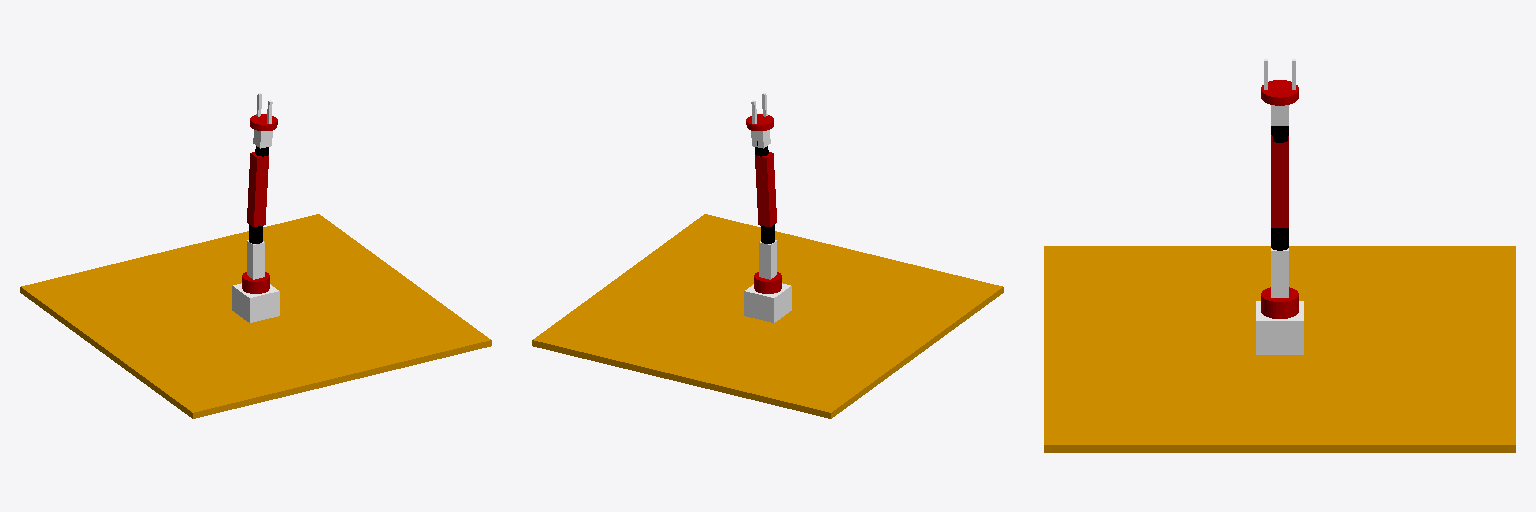
robot.urdf — seven_dof_arm:
<?xml version="1.0" ?>
<!-- =================================================================================== -->
<!-- |    This document was autogenerated by xacro from seven_dof_arm.xacro            | -->
<!-- |    EDITING THIS FILE BY HAND IS NOT RECOMMENDED                                 | -->
<!-- =================================================================================== -->
<robot name="seven_dof_arm" xmlns:xacro="http://ros.org/wiki/xacro">
  <!-- Include materials -->
  <material name="Black">
    <color rgba="0.0 0.0 0.0 1.0"/>
  </material>
  <material name="Red">
    <color rgba="0.8 0.0 0.0 1.0"/>
  </material>
  <material name="White">
    <color rgba="1.0 1.0 1.0 1.0"/>
  </material>
  <!-- BOTTOM FIXED LINK 
This link is the base of the arm in which arm is placed 

-->
  <!-- ///////////////////////////////////////////////////////////////////////////////////////////////////////////////////// -->
  <joint name="bottom_joint" type="fixed">
    <origin rpy="0 0 0" xyz="0 0 0"/>
    <parent link="base_link"/>
    <child link="bottom_link"/>
  </joint>
  <link name="bottom_link">
    <visual>
      <origin rpy="0 0 0" xyz=" 0 0 -0.04"/>
      <geometry>
        <box size="1 1 0.02"/>
      </geometry>
      <material name="Brown"/>
    </visual>
    <collision>
      <origin rpy="0 0 0" xyz=" 0 0 -0.04"/>
      <geometry>
        <box size="1 1 0.02"/>
      </geometry>
    </collision>
    &gt;

  
  </link>
  <gazebo reference="bottom_link">
    <material>Gazebo/White</material>
  </gazebo>
  <!-- ///////////////////////////////////////////////////////////////////////////////////////////////////////////////////// -->
  <!-- BASE LINK -->
  <link name="base_link">
    <visual>
      <origin rpy="1.570795 0 0" xyz="0 0 0"/>
      <!-- rotate PI/2 -->
      <geometry>
        <box size="0.1 0.1 0.1"/>
      </geometry>
      <material name="White"/>
    </visual>
    <collision>
      <origin rpy="1.570795 0 0" xyz="0 0 0"/>
      <!-- rotate PI/2 -->
      <geometry>
        <box size="0.1 0.1 0.1"/>
      </geometry>
    </collision>
    &gt;
	
    <inertial>
      <mass value="1"/>
      <inertia ixx="1.0" ixy="0.0" ixz="0.0" iyy="0.5" iyz="0.0" izz="1.0"/>
    </inertial>
  </link>
  <gazebo reference="base_link">
    <material>Gazebo/White</material>
  </gazebo>
  <joint name="shoulder_pan_joint" type="revolute">
    <parent link="base_link"/>
    <child link="shoulder_pan_link"/>
    <origin rpy="0 1.570795 0.0" xyz="0 0 0.05"/>
    <axis xyz="-1 0 0"/>
    <limit effort="300" lower="-2.61799387799" upper="1.98394848567" velocity="1"/>
    <dynamics damping="50" friction="1"/>
  </joint>
  <!-- ///////////////////////////////////////////////////////////////////////////////////////////////////////////////////// -->
  <!-- SHOULDER PAN LINK -->
  <link name="shoulder_pan_link">
    <visual>
      <origin rpy="0 1.570795 0" xyz="0 0 0"/>
      <geometry>
        <cylinder length="0.08" radius="0.04"/>
      </geometry>
      <material name="Red"/>
    </visual>
    <collision>
      <origin rpy="0 1.570795 0" xyz="0 0 0"/>
      <geometry>
        <cylinder length="0.08" radius="0.04"/>
      </geometry>
    </collision>
    <inertial>
      <mass value="1"/>
      <inertia ixx="1.0" ixy="0.0" ixz="0.0" iyy="0.5" iyz="0.0" izz="1.0"/>
    </inertial>
  </link>
  <gazebo reference="shoulder_pan_link">
    <material>Gazebo/Red</material>
  </gazebo>
  <joint name="shoulder_pitch_joint" type="revolute">
    <parent link="shoulder_pan_link"/>
    <child link="shoulder_pitch_link"/>
    <origin rpy="-1.570795 0 1.570795" xyz="-0.041 0.0021 0.0"/>
    <axis xyz="1 0 0"/>
    <limit effort="300" lower="-1.19962513147" upper="1.89994105047" velocity="1"/>
    <dynamics damping="50" friction="1"/>
  </joint>
  <!-- ///////////////////////////////////////////////////////////////////////////////////////////////////////////////////// -->
  <!-- SHOULDER PITCH LINK -->
  <link name="shoulder_pitch_link">
    <visual>
      <origin rpy="0 1.570795 0" xyz="-0.002 0 0.04"/>
      <geometry>
        <box size="0.14 0.04 0.04"/>
      </geometry>
      <material name="White"/>
    </visual>
    <collision>
      <origin rpy="0 1.570795 0" xyz="-0.002 0 0.04"/>
      <geometry>
        <box size="0.14 0.04 0.04"/>
      </geometry>
    </collision>
    <inertial>
      <mass value="1"/>
      <inertia ixx="1.0" ixy="0.0" ixz="0.0" iyy="0.5" iyz="0.0" izz="1.0"/>
    </inertial>
  </link>
  <gazebo reference="shoulder_pitch_link">
    <material>Gazebo/White</material>
  </gazebo>
  <joint name="elbow_roll_joint" type="revolute">
    <parent link="shoulder_pitch_link"/>
    <child link="elbow_roll_link"/>
    <origin rpy="3.14159 1.570795 0" xyz="-0.002 0 0.1206"/>
    <axis xyz="-1 0 0"/>
    <limit effort="300" lower="-2.61799387799" upper="0.705631162427" velocity="1"/>
    <dynamics damping="50" friction="1"/>
  </joint>
  <!-- ///////////////////////////////////////////////////////////////////////////////////////////////////////////////////// -->
  <!-- ELBOW ROLL LINK -->
  <link name="elbow_roll_link">
    <visual>
      <origin rpy="0 1.570795 0" xyz="-0.015 0.0 -0.0"/>
      <geometry>
        <cylinder length="0.06" radius="0.02"/>
      </geometry>
      <material name="Black"/>
    </visual>
    <collision>
      <origin rpy="0 1.570795 0" xyz="-0.015 0.0 -0.0"/>
      <geometry>
        <cylinder length="0.06" radius="0.02"/>
      </geometry>
    </collision>
    <inertial>
      <mass value="1"/>
      <inertia ixx="1.0" ixy="0.0" ixz="0.0" iyy="0.5" iyz="0.0" izz="1.0"/>
    </inertial>
  </link>
  <gazebo reference="elbow_roll_link">
    <material>Gazebo/Black</material>
  </gazebo>
  <joint name="elbow_pitch_joint" type="revolute">
    <parent link="elbow_roll_link"/>
    <child link="elbow_pitch_link"/>
    <origin rpy="0.055 1.570795 0" xyz="-0.035 0 0.0"/>
    <axis xyz="1 0 0"/>
    <limit effort="300" lower="-1.5953400194" upper="1.93281579274" velocity="1"/>
    <dynamics damping="50" friction="1"/>
  </joint>
  <!-- ///////////////////////////////////////////////////////////////////////////////////////////////////////////////////// -->
  <!-- ELBOW PITCH LINK -->
  <link name="elbow_pitch_link">
    <visual>
      <origin rpy="0 1.570795 0" xyz="0 0 -0.12"/>
      <geometry>
        <box size="0.22 0.04 0.04"/>
      </geometry>
      <material name="Red"/>
    </visual>
    <collision>
      <origin rpy="0 1.570795 0" xyz="0 0 -0.12"/>
      <geometry>
        <box size="0.22 0.04 0.04"/>
      </geometry>
    </collision>
    <inertial>
      <mass value="1"/>
      <inertia ixx="1.0" ixy="0.0" ixz="0.0" iyy="0.5" iyz="0.0" izz="1.0"/>
    </inertial>
  </link>
  <gazebo reference="elbow_pitch_link">
    <material>Gazebo/Red</material>
  </gazebo>
  <joint name="wrist_roll_joint" type="revolute">
    <parent link="elbow_pitch_link"/>
    <child link="wrist_roll_link"/>
    <origin rpy="0 1.570795 3.14159" xyz="0.0 0.0081 -.248"/>
    <axis xyz="1 0 0"/>
    <limit effort="300" lower="-2.61799387799" upper="2.6128806087" velocity="1"/>
    <dynamics damping="50" friction="1"/>
  </joint>
  <!-- WRIST ROLL LINK -->
  <link name="wrist_roll_link">
    <visual>
      <origin rpy="0 1.570795 0" xyz="0 0 0"/>
      <geometry>
        <cylinder length="0.06" radius="0.02"/>
      </geometry>
      <material name="Black"/>
    </visual>
    <collision>
      <origin rpy="0 1.570795 0" xyz="0 0 0"/>
      <geometry>
        <cylinder length="0.06" radius="0.02"/>
      </geometry>
    </collision>
    <inertial>
      <mass value="1"/>
      <inertia ixx="1.0" ixy="0.0" ixz="0.0" iyy="0.5" iyz="0.0" izz="1.0"/>
    </inertial>
  </link>
  <gazebo reference="wrist_roll_link">
    <material>Gazebo/Black</material>
  </gazebo>
  <joint name="wrist_pitch_joint" type="revolute">
    <parent link="wrist_roll_link"/>
    <child link="wrist_pitch_link"/>
    <origin rpy="0 1.570795 0" xyz="0.0 0.0 0.0001"/>
    <axis xyz="1 0 0"/>
    <limit effort="300" lower="-1.5953400194" upper="1.98394848567" velocity="1"/>
    <dynamics damping="50" friction="1"/>
  </joint>
  <!-- ///////////////////////////////////////////////////////////////////////////////////////////////////////////////////// -->
  <!-- WRIST PITCH LINK -->
  <link name="wrist_pitch_link">
    <visual>
      <origin rpy="0 1.570795 0" xyz="0 0 0.04"/>
      <geometry>
        <box size="0.06 0.04 0.04"/>
      </geometry>
      <material name="White"/>
    </visual>
    <collision>
      <origin rpy="0 1.570795 0" xyz="0 0 0.04 "/>
      <geometry>
        <box size="0.06 0.04 0.04"/>
      </geometry>
    </collision>
    <inertial>
      <mass value="1"/>
      <inertia ixx="1.0" ixy="0.0" ixz="0.0" iyy="0.5" iyz="0.0" izz="1.0"/>
    </inertial>
  </link>
  <gazebo reference="wrist_pitch_link">
    <material>Gazebo/White</material>
  </gazebo>
  <joint name="gripper_roll_joint" type="revolute">
    <parent link="wrist_pitch_link"/>
    <child link="gripper_roll_link"/>
    <origin rpy="4.712385 -1.570795 0" xyz="0 0 0.080"/>
    <axis xyz="1 0 0"/>
    <!--
		<limit effort="300" velocity="1" lower="-2.61799387799" upper="2.6128806087" />
		-->
    <limit effort="300" lower="-3.14" upper="3.14" velocity="1"/>
    <dynamics damping="50" friction="1"/>
  </joint>
  <!-- ///////////////////////////////////////////////////////////////////////////////////////////////////////////////////// -->
  <!-- GRIPPER ROLL LINK -->
  <link name="gripper_roll_link">
    <visual>
      <origin rpy="0 1.570795 0" xyz="0 0 0"/>
      <geometry>
        <cylinder length="0.02" radius="0.04"/>
      </geometry>
      <material name="Red"/>
    </visual>
    <collision>
      <origin rpy="0 1.570795 0" xyz="0 0 0"/>
      <geometry>
        <cylinder length="0.02" radius="0.04"/>
      </geometry>
    </collision>
    <inertial>
      <mass value="1"/>
      <inertia ixx="1.0" ixy="0.0" ixz="0.0" iyy="0.5" iyz="0.0" izz="1.0"/>
    </inertial>
  </link>
  <gazebo reference="gripper_roll_link">
    <material>Gazebo/Red</material>
  </gazebo>
  <joint name="finger_joint1" type="prismatic">
    <parent link="gripper_roll_link"/>
    <child link="gripper_finger_link1"/>
    <origin xyz="0.0 0 0"/>
    <axis xyz="0 1 0"/>
    <limit effort="100" lower="0" upper="0.03" velocity="1.0"/>
    <safety_controller k_position="20" k_velocity="20" soft_lower_limit="-0.15" soft_upper_limit="0.0"/>
    <dynamics damping="50" friction="1"/>
  </joint>
  <!-- ///////////////////////////////////////////////////////////////////////////////////////////////////////////////////// -->
  <!-- LEFT GRIPPER AFT LINK -->
  <link name="gripper_finger_link1">
    <visual>
      <origin xyz="0.04 -0.03 0"/>
      <geometry>
        <box size="0.08 0.01 0.01"/>
      </geometry>
      <material name="White"/>
    </visual>
    <inertial>
      <mass value="1"/>
      <inertia ixx="1.0" ixy="0.0" ixz="0.0" iyy="0.5" iyz="0.0" izz="1.0"/>
    </inertial>
  </link>
  <gazebo reference="l_gripper_aft_link">
    <material>Gazebo/White</material>
  </gazebo>
  <!-- Joint between Wrist roll and finger 2 -->
  <joint name="finger_joint2" type="prismatic">
    <parent link="gripper_roll_link"/>
    <child link="gripper_finger_link2"/>
    <origin xyz="0.0 0 0"/>
    <axis xyz="0 1 0"/>
    <limit effort="1" lower="-0.03" upper="0" velocity="1.0"/>
    <!--    <mimic joint="gripper_finger_joint" multiplier="-1.0" offset="0.0" /> -->
    <dynamics damping="50" friction="1"/>
  </joint>
  <!-- ///////////////////////////////////////////////////////////////////////////////////////////////////////////////////// -->
  <!-- RIGHT GRIPPER AFT LINK -->
  <link name="gripper_finger_link2">
    <visual>
      <origin xyz="0.04 0.03 0"/>
      <geometry>
        <box size="0.08 0.01 0.01"/>
      </geometry>
      <material name="White"/>
    </visual>
    <inertial>
      <mass value="1"/>
      <inertia ixx="1.0" ixy="0.0" ixz="0.0" iyy="0.5" iyz="0.0" izz="1.0"/>
    </inertial>
  </link>
  <gazebo reference="r_gripper_aft_link">
    <material>Gazebo/White</material>
  </gazebo>
  <!-- Grasping frame -->
  <link name="grasping_frame">
    <inertial>
      <origin rpy="0 0 0" xyz="0 0 0"/>
      <mass value="0.0001"/>
      <cuboid_inertia mass="0.0001" x="0.001" y="0.001" z="0.001"/>
      <inertia ixx="1.0" ixy="0.0" ixz="0.0" iyy="100.0" iyz="0.0" izz="1.0"/>
    </inertial>
    <visual>
      <origin xyz="0 0 0"/>
      <geometry>
        <!--
          <box size="${grasp_frame_len} ${grasp_frame_width} ${grasp_frame_height}" />
					-->
      </geometry>
      <material name="White"/>
    </visual>
  </link>
  <joint name="grasping_frame_joint" type="fixed">
    <parent link="gripper_roll_link"/>
    <child link="grasping_frame"/>
    <origin rpy="0 0 0" xyz="0.08 0 0"/>
  </joint>
  <!-- ///////////////////////////////////////////////////////////////////////////////////////////////////////////////////// -->
  <!-- Transmissions for ROS Control -->
  <transmission name="tran1">
    <type>transmission_interface/SimpleTransmission</type>
    <joint name="shoulder_pan_joint">
      <hardwareInterface>hardware_interface/PositionJointInterface</hardwareInterface>
    </joint>
    <actuator name="motor1">
      <hardwareInterface>hardware_interface/PositionJointInterface</hardwareInterface>
      <mechanicalReduction>1</mechanicalReduction>
    </actuator>
  </transmission>
  <transmission name="tran1">
    <type>transmission_interface/SimpleTransmission</type>
    <joint name="shoulder_pitch_joint">
      <hardwareInterface>hardware_interface/PositionJointInterface</hardwareInterface>
    </joint>
    <actuator name="motor1">
      <hardwareInterface>hardware_interface/PositionJointInterface</hardwareInterface>
      <mechanicalReduction>1</mechanicalReduction>
    </actuator>
  </transmission>
  <transmission name="tran1">
    <type>transmission_interface/SimpleTransmission</type>
    <joint name="elbow_roll_joint">
      <hardwareInterface>hardware_interface/PositionJointInterface</hardwareInterface>
    </joint>
    <actuator name="motor1">
      <hardwareInterface>hardware_interface/PositionJointInterface</hardwareInterface>
      <mechanicalReduction>1</mechanicalReduction>
    </actuator>
  </transmission>
  <transmission name="tran1">
    <type>transmission_interface/SimpleTransmission</type>
    <joint name="elbow_pitch_joint">
      <hardwareInterface>hardware_interface/PositionJointInterface</hardwareInterface>
    </joint>
    <actuator name="motor1">
      <hardwareInterface>hardware_interface/PositionJointInterface</hardwareInterface>
      <mechanicalReduction>1</mechanicalReduction>
    </actuator>
  </transmission>
  <transmission name="tran1">
    <type>transmission_interface/SimpleTransmission</type>
    <joint name="wrist_roll_joint">
      <hardwareInterface>hardware_interface/PositionJointInterface</hardwareInterface>
    </joint>
    <actuator name="motor1">
      <hardwareInterface>hardware_interface/PositionJointInterface</hardwareInterface>
      <mechanicalReduction>1</mechanicalReduction>
    </actuator>
  </transmission>
  <transmission name="tran1">
    <type>transmission_interface/SimpleTransmission</type>
    <joint name="wrist_pitch_joint">
      <hardwareInterface>hardware_interface/PositionJointInterface</hardwareInterface>
    </joint>
    <actuator name="motor1">
      <hardwareInterface>hardware_interface/PositionJointInterface</hardwareInterface>
      <mechanicalReduction>1</mechanicalReduction>
    </actuator>
  </transmission>
  <transmission name="tran1">
    <type>transmission_interface/SimpleTransmission</type>
    <joint name="gripper_roll_joint">
      <hardwareInterface>hardware_interface/PositionJointInterface</hardwareInterface>
    </joint>
    <actuator name="motor1">
      <hardwareInterface>hardware_interface/PositionJointInterface</hardwareInterface>
      <mechanicalReduction>1</mechanicalReduction>
    </actuator>
  </transmission>
  <transmission name="tran1">
    <type>transmission_interface/SimpleTransmission</type>
    <joint name="finger_joint1">
      <hardwareInterface>hardware_interface/PositionJointInterface</hardwareInterface>
    </joint>
    <actuator name="motor1">
      <hardwareInterface>hardware_interface/PositionJointInterface</hardwareInterface>
      <mechanicalReduction>1</mechanicalReduction>
    </actuator>
  </transmission>
  <transmission name="tran1">
    <type>transmission_interface/SimpleTransmission</type>
    <joint name="finger_joint2">
      <hardwareInterface>hardware_interface/PositionJointInterface</hardwareInterface>
    </joint>
    <actuator name="motor1">
      <hardwareInterface>hardware_interface/PositionJointInterface</hardwareInterface>
      <mechanicalReduction>1</mechanicalReduction>
    </actuator>
  </transmission>
  <!-- ros_control plugin -->
  <gazebo>
    <plugin filename="libgazebo_ros_control.so" name="gazebo_ros_control">
      <robotNamespace>/seven_dof_arm</robotNamespace>
    </plugin>
  </gazebo>
</robot>

--- Render facts (derived) ---
Views: 3 orthographic renders of the robot side by side, from view 1: azimuth 30°, elevation 25°; view 2: azimuth 150°, elevation 25°; view 3: azimuth 270°, elevation 25°.
Model seven_dof_arm with 12 links and 11 joints (7 revolute, 2 prismatic, 2 fixed), rooted at base_link, posed every joint at zero.
Links seen in each view (by area): view 1: bottom_link, base_link, elbow_pitch_link, shoulder_pitch_link; view 2: bottom_link, base_link, elbow_pitch_link, shoulder_pitch_link; view 3: bottom_link, base_link, elbow_pitch_link, shoulder_pan_link, shoulder_pitch_link, gripper_roll_link.
Boxes of the visible links, box(x1,y1,x2,y2) form: bottom_link: box(20, 214, 491, 418); base_link: box(232, 283, 279, 322); elbow_pitch_link: box(247, 152, 268, 226); shoulder_pitch_link: box(247, 240, 264, 279); bottom_link: box(532, 214, 1003, 418); base_link: box(744, 283, 791, 322); elbow_pitch_link: box(755, 152, 776, 226); shoulder_pitch_link: box(759, 240, 776, 279); bottom_link: box(1044, 246, 1515, 452); base_link: box(1256, 301, 1303, 354); elbow_pitch_link: box(1271, 135, 1288, 227); shoulder_pan_link: box(1261, 287, 1298, 318); shoulder_pitch_link: box(1271, 248, 1288, 297); gripper_roll_link: box(1261, 80, 1298, 105).
Size in the robot's own frame: 1 by 1 by 0.7038 metres.
Geometry: primitives only (box / cylinder / sphere), no mesh files.